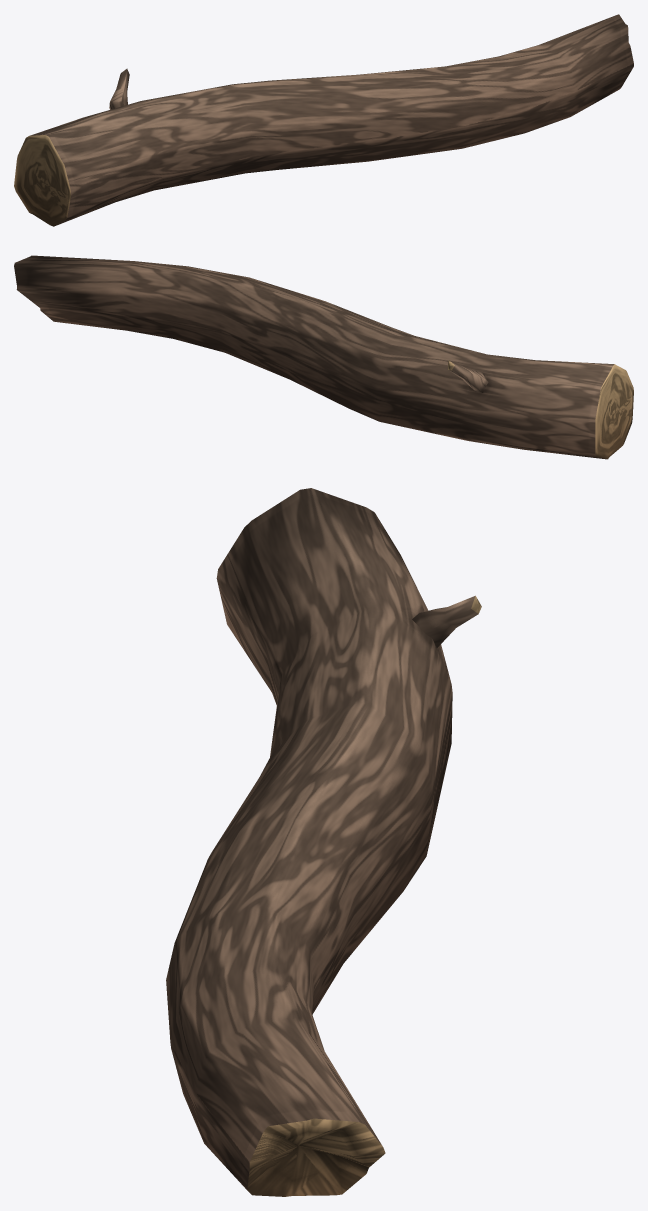
The model's file is log_1.glb.
3 views of the same model, one above another, from view 1: azimuth 30°, elevation 25°; view 2: azimuth 150°, elevation 25°; view 3: azimuth 270°, elevation 25° (orthographic). The views are drawn at different scales.
Parts seen in each view (by area): view 1: log_1; view 2: log_1; view 3: log_1.
Part boxes in pixels (box(x1,y1,x2,y2)): log_1: box(14, 14, 633, 226); log_1: box(14, 255, 633, 459); log_1: box(166, 488, 481, 1196).
Size of the model in its own units: 2.6 by 0.38 by 0.6.
2 materials, 2 textured.
